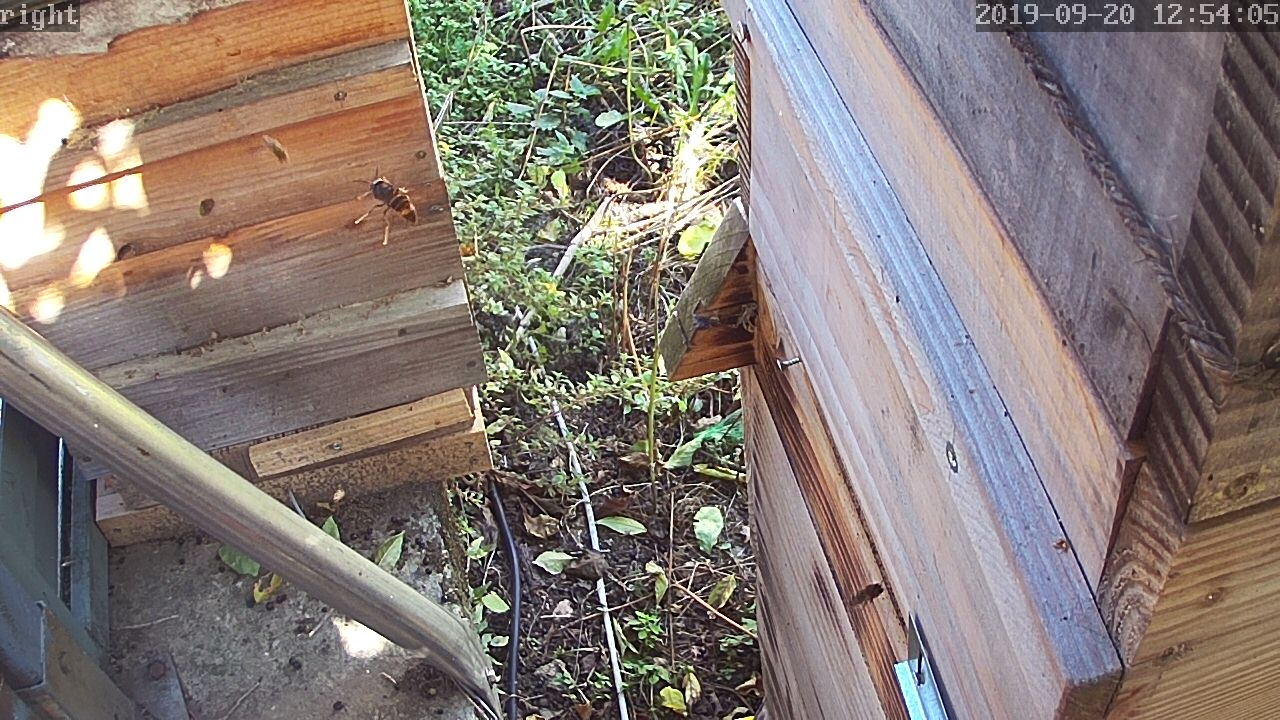bee: (844, 578, 894, 618)
hornet: (355, 174, 419, 225)
